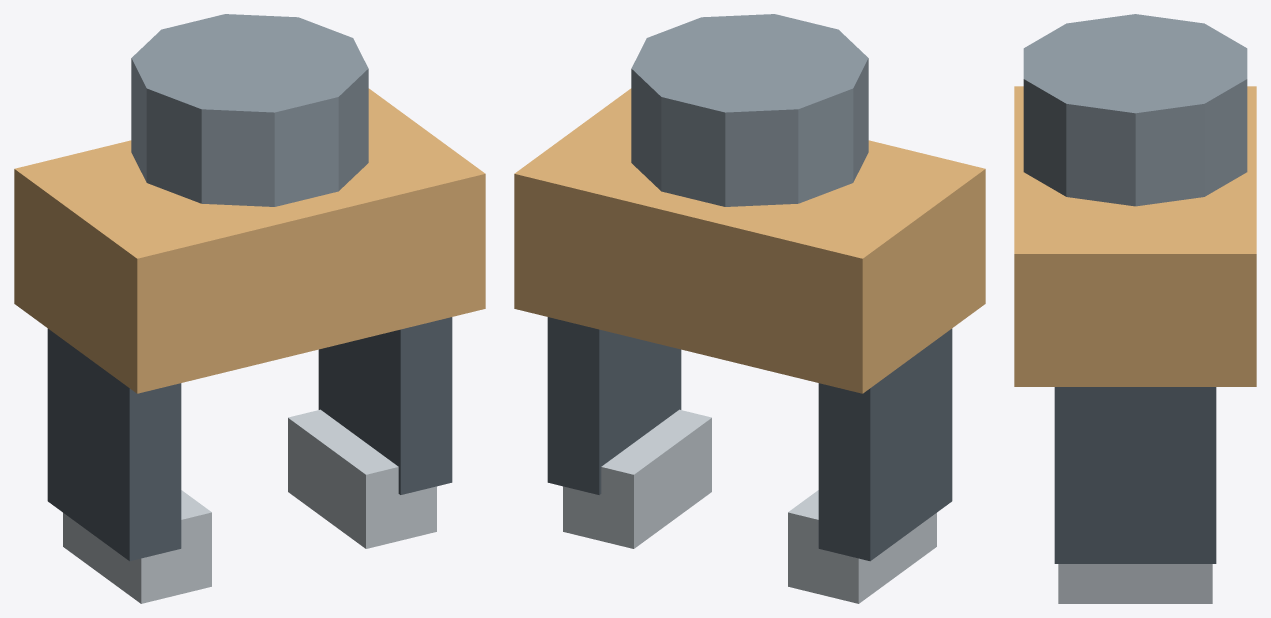
The model's file is brazo_pinza.glb.
The picture shows the model from 3 angles, left to right: view 1: azimuth 30°, elevation 25°; view 2: azimuth 150°, elevation 25°; view 3: azimuth 270°, elevation 25°; orthographic projection.
Parts seen in each view (by area): view 1: brazo_pinza; view 2: brazo_pinza; view 3: brazo_pinza.
Boxes of the visible parts, x1,y1,x2,y2 form: brazo_pinza: [14, 14, 485, 603]; brazo_pinza: [514, 14, 985, 603]; brazo_pinza: [1014, 14, 1256, 603].
Bounding box in the file's own units: 0.54 × 0.705 × 0.33.
